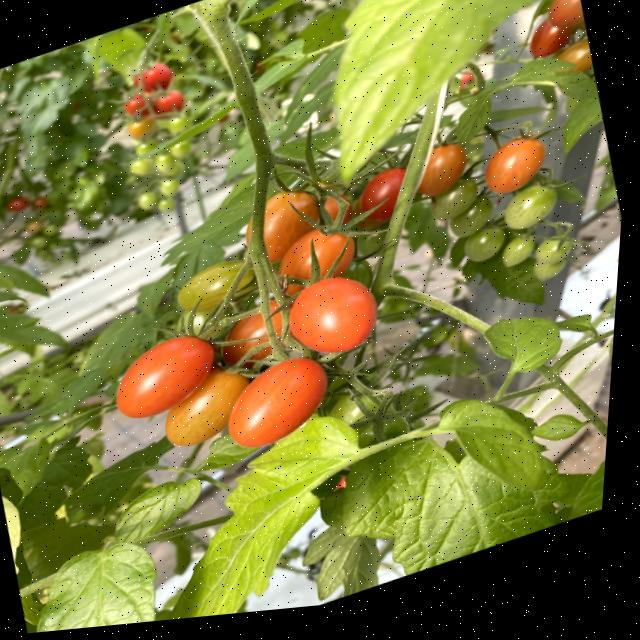ripe0: (172, 252, 257, 322)
ripe2: (219, 346, 336, 458), (107, 323, 222, 427), (283, 262, 384, 368)
